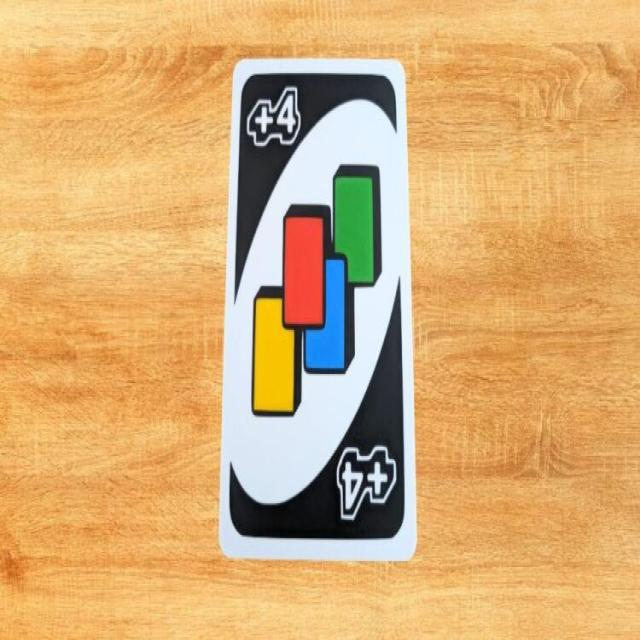Draw_Four: (227, 65, 410, 544)
